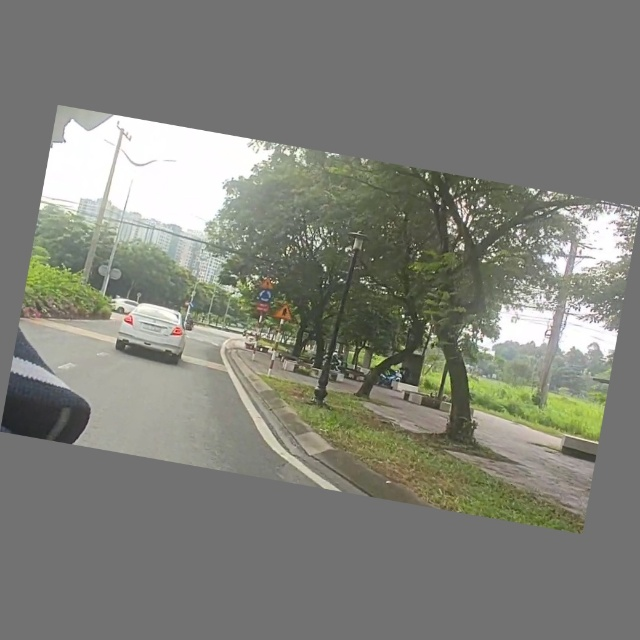R.302a: (189, 303, 197, 310)
R.303: (256, 288, 276, 304)
W.207: (273, 301, 295, 322)
W.224: (259, 277, 277, 291)
